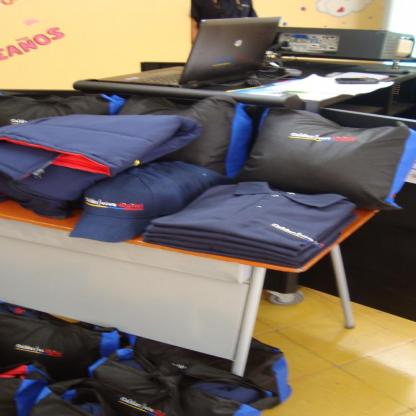board: (94, 17, 277, 87)
